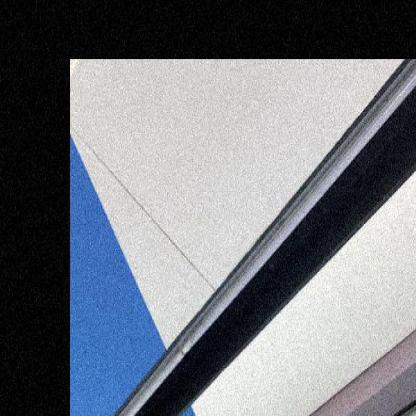light_off: (95, 63, 416, 415)
